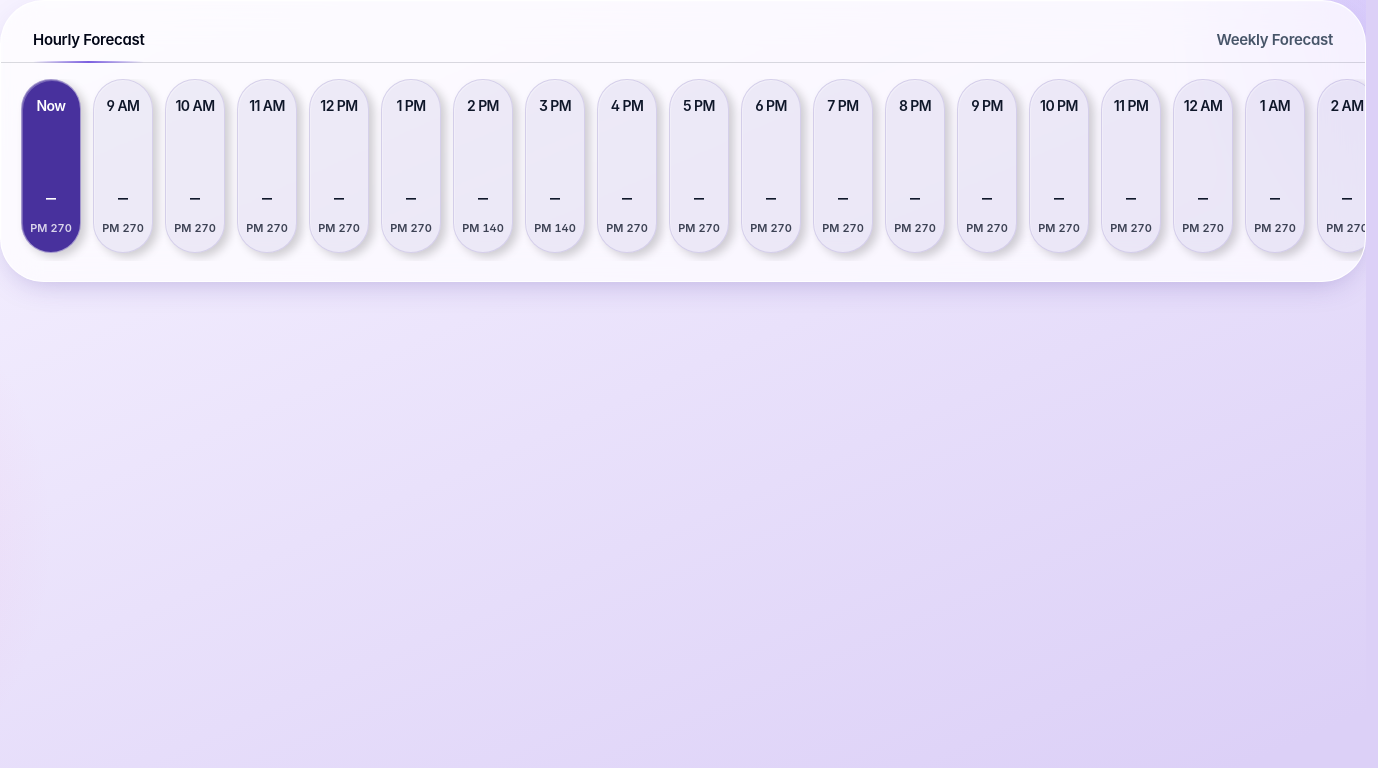
Test: ForecastSheet › falls back to the PM2.5 forecast when the weather forecast is missing
Click the tab "Weekly Forecast" at point(1275, 40), box [1216,18,1333,62]
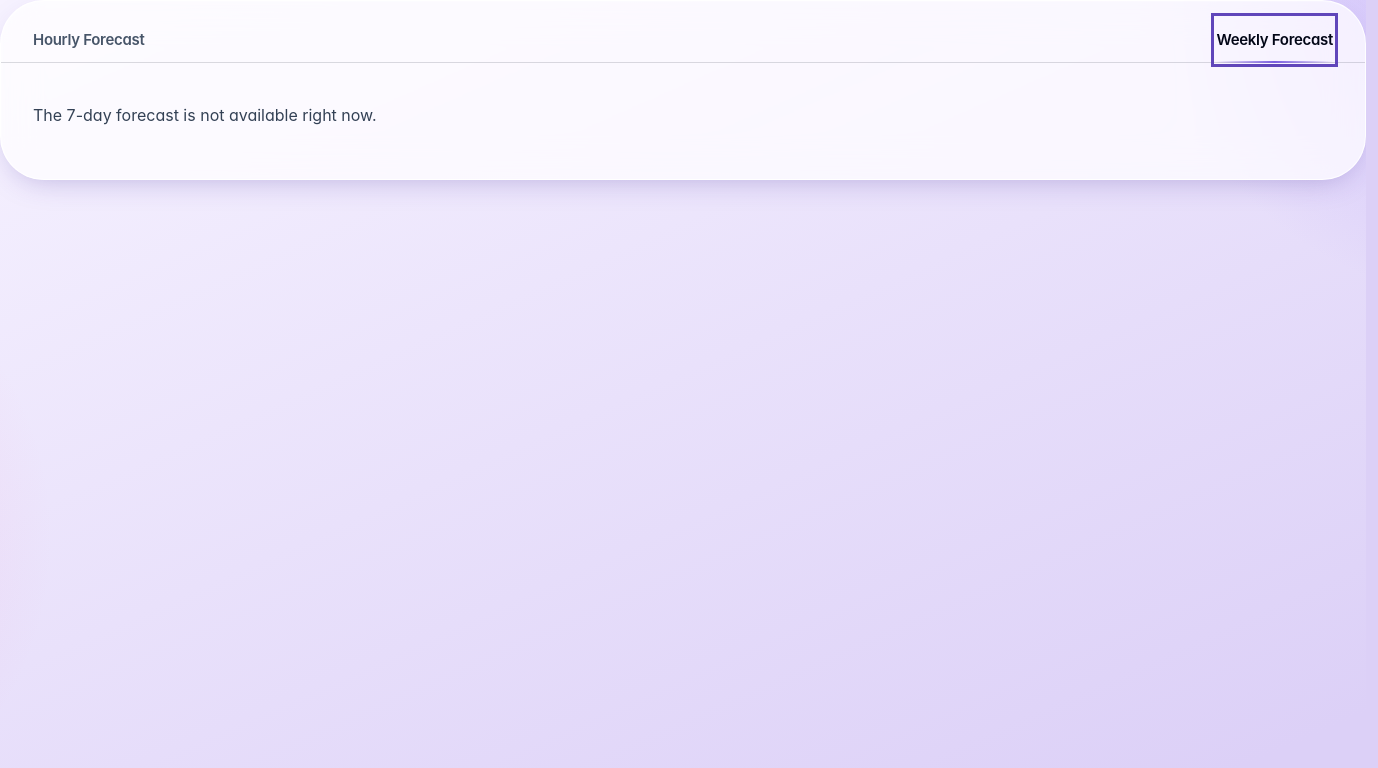
expect the text "The 7-day forecast is not available right now." is shown: met, box [33,105,377,125]
